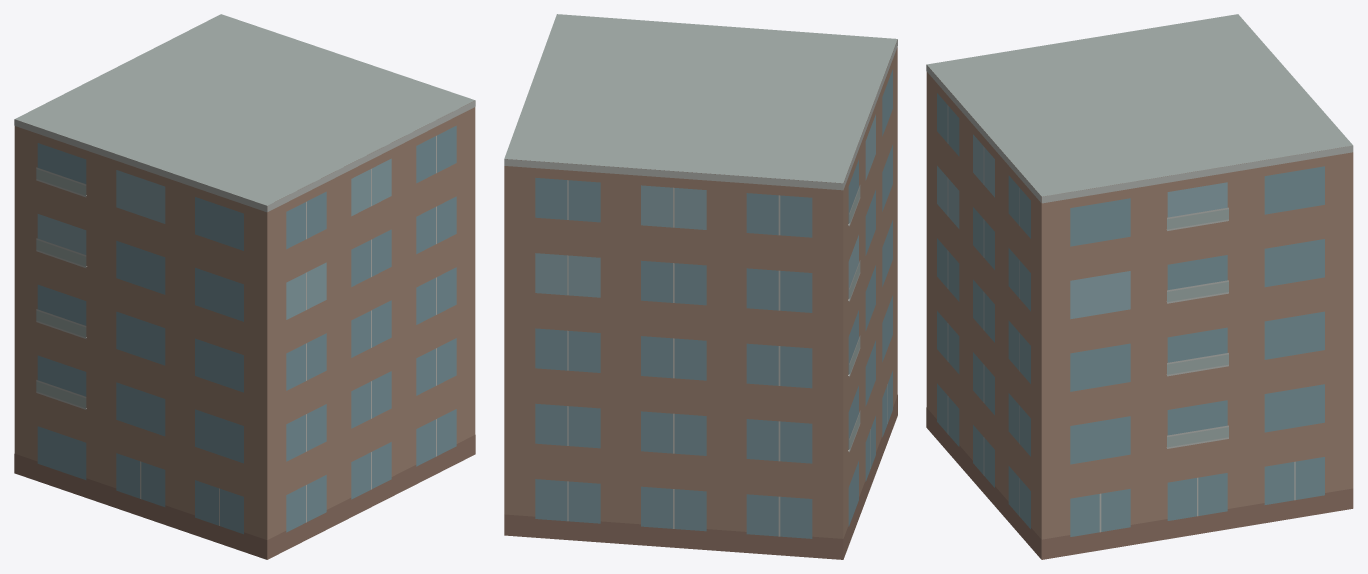
File: survey-upis-32614150.glb
The picture shows the model from 3 angles, left to right: view 1: azimuth 30°, elevation 25°; view 2: azimuth 150°, elevation 25°; view 3: azimuth 270°, elevation 25°; orthographic projection. The views are drawn at different scales.
Parts seen in each view (by area): view 1: survey-upis-32614150.tmp; view 2: survey-upis-32614150.tmp; view 3: survey-upis-32614150.tmp.
Boxes of the visible parts, x1,y1,x2,y2 form: survey-upis-32614150.tmp: (14, 14, 475, 559); survey-upis-32614150.tmp: (504, 14, 897, 559); survey-upis-32614150.tmp: (926, 14, 1353, 559).
Bounding box in the file's own units: 14.14 × 13.1 × 13.96.
